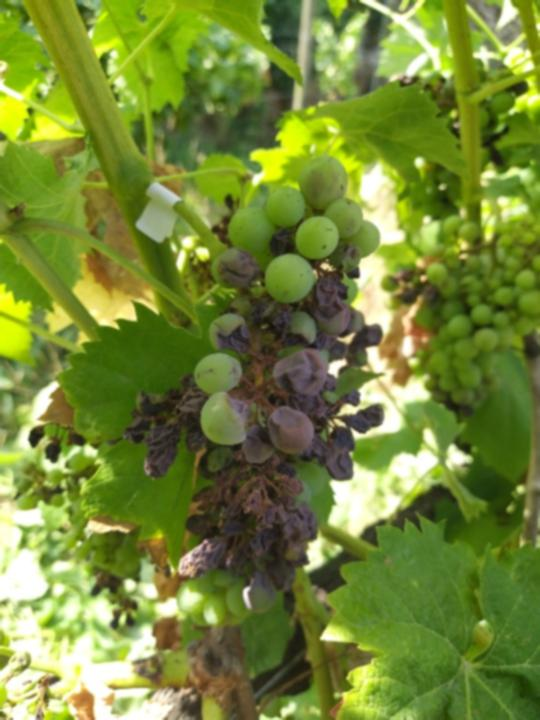grape: (120, 154, 390, 633)
